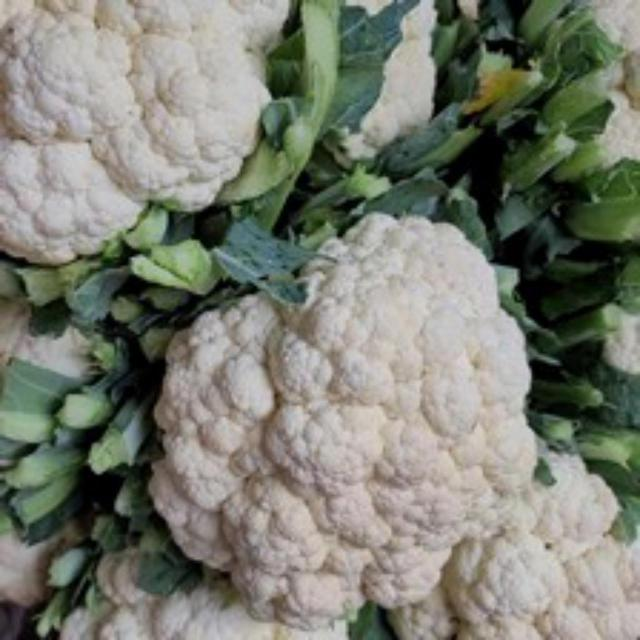cauliflower: (133, 199, 550, 634)
